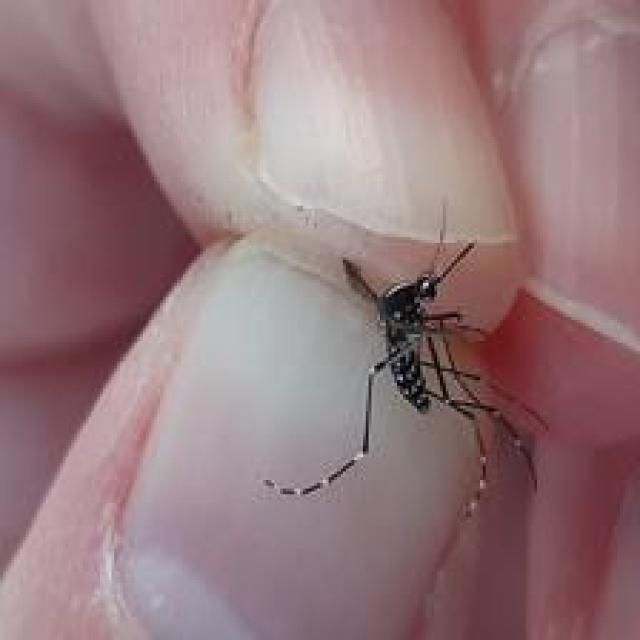Aedes albopictus: (261, 203, 550, 520)
